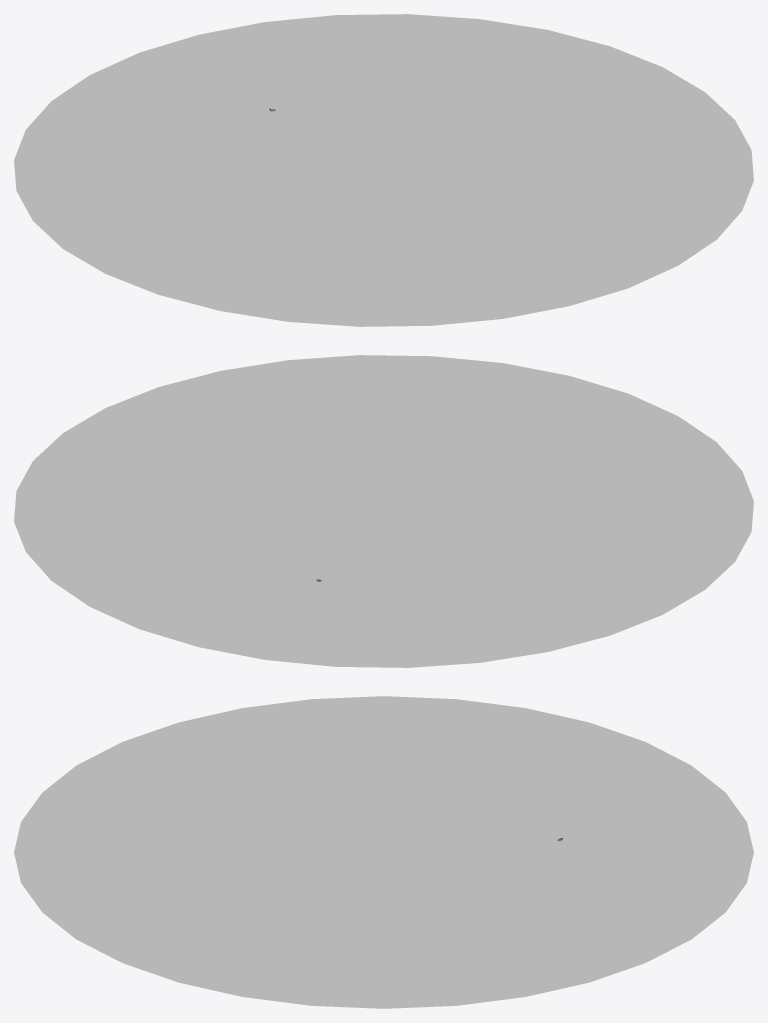
File: stageProb.fbx
3 renders of one model, top to bottom at view 1: azimuth 30°, elevation 25°; view 2: azimuth 150°, elevation 25°; view 3: azimuth 270°, elevation 25°, orthographic.
Parts seen in each view (by area): view 1: WaterProDaytime_03; view 2: WaterProDaytime_03; view 3: WaterProDaytime_03.
Boxes of the visible parts, <box> form: WaterProDaytime_03: <box>14,14,753,326</box>; WaterProDaytime_03: <box>14,355,753,667</box>; WaterProDaytime_03: <box>14,696,753,1008</box>.
Size of what is drawn, in the model's own units: 22594 by 85.43 by 22594.
Materials: 5 (4 with a texture image).
